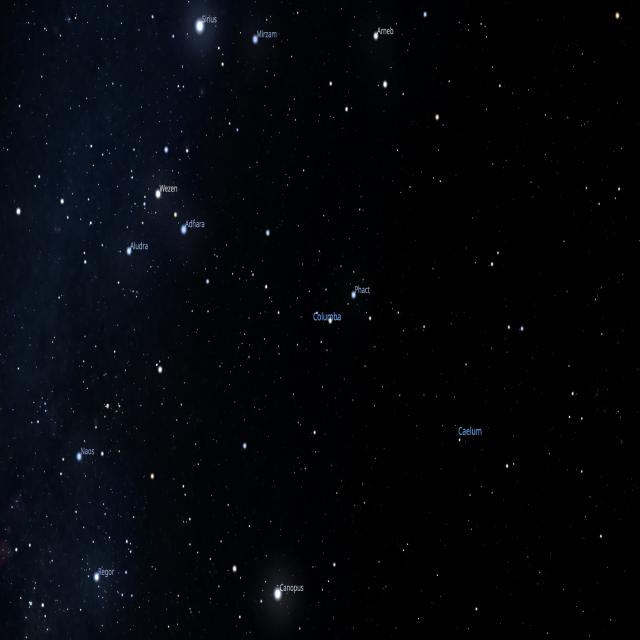Columba: (264, 276, 368, 446)
